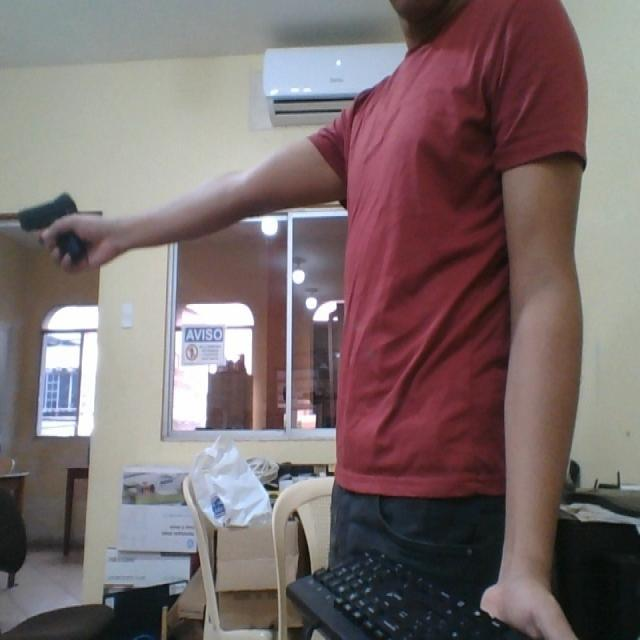weapon: (1, 192, 102, 268)
